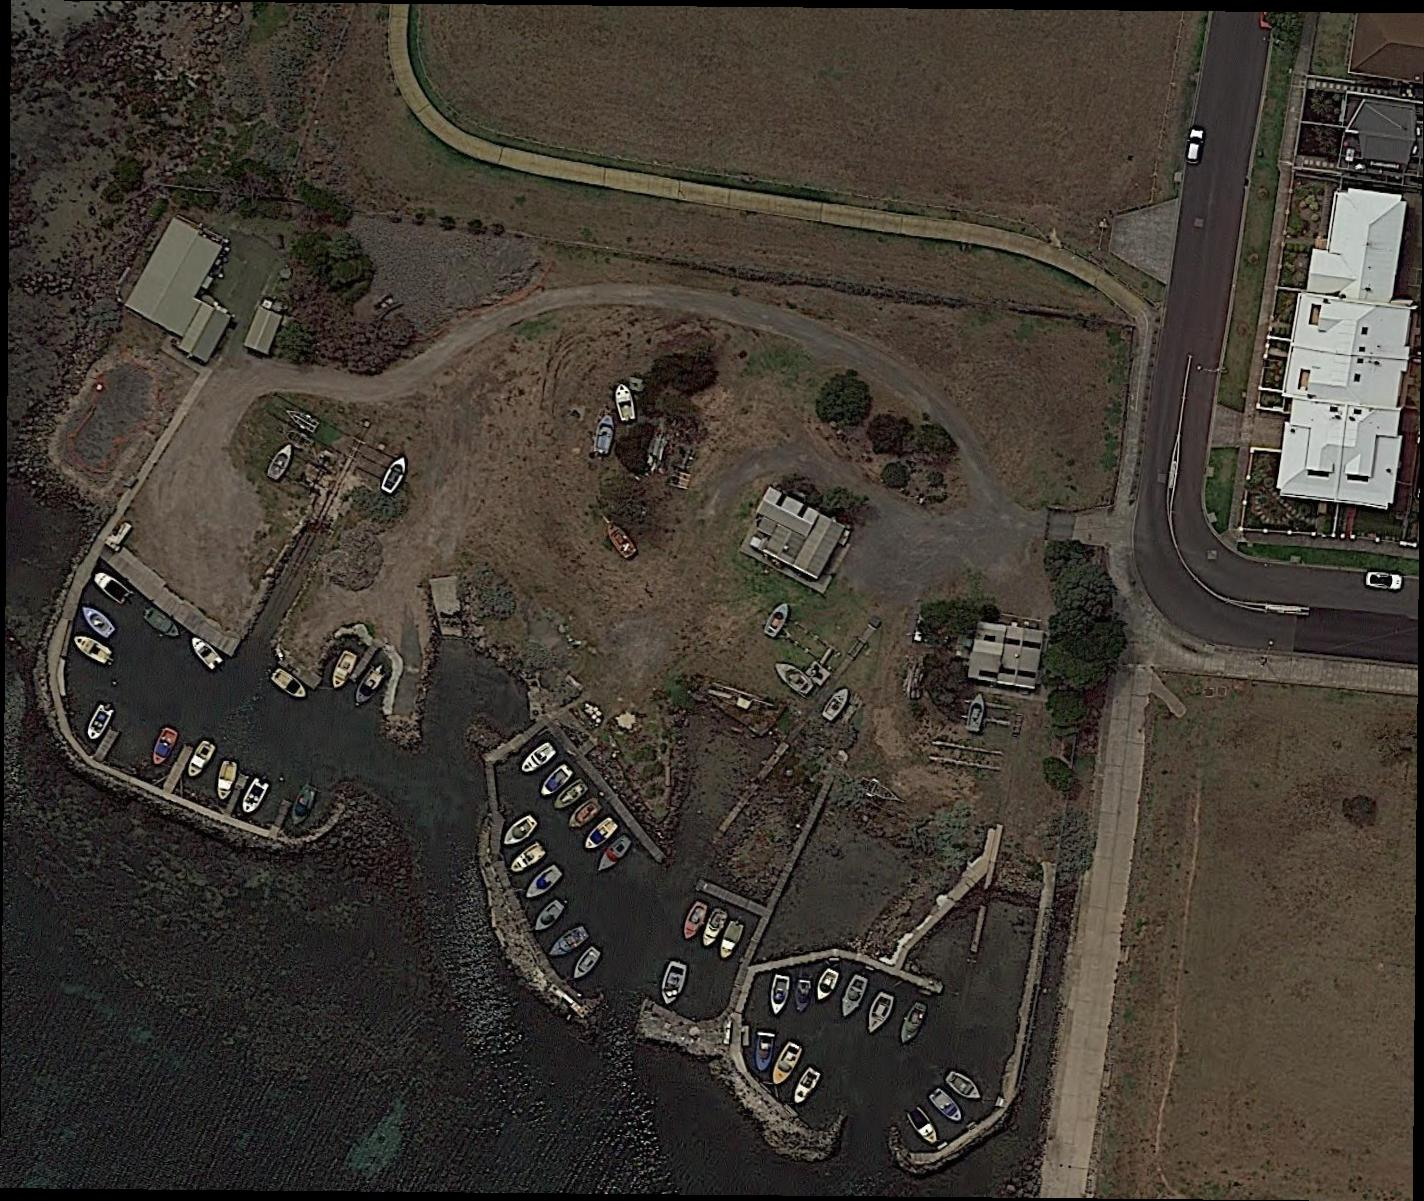harbor: (548, 720, 666, 861), (697, 879, 766, 917), (162, 745, 193, 794), (898, 967, 944, 994), (224, 774, 248, 817), (350, 645, 378, 682), (269, 799, 292, 840), (93, 728, 119, 763)
ship: (770, 655, 817, 699), (766, 1039, 806, 1091), (520, 864, 566, 906), (593, 833, 635, 878), (835, 973, 873, 1022), (543, 925, 590, 963), (896, 998, 932, 1047), (862, 991, 898, 1038), (271, 664, 313, 703), (350, 664, 388, 708), (906, 1103, 943, 1149), (142, 605, 185, 643), (91, 568, 133, 606), (928, 1085, 966, 1128), (602, 518, 639, 562), (186, 633, 225, 673), (564, 795, 604, 834), (499, 814, 541, 852), (657, 959, 689, 1008), (288, 782, 322, 828), (582, 816, 621, 855), (944, 1068, 985, 1104), (378, 453, 413, 496), (149, 724, 182, 770), (79, 602, 117, 641), (535, 763, 576, 799), (82, 702, 116, 746), (327, 648, 360, 692), (71, 631, 116, 665), (506, 841, 547, 877), (184, 739, 218, 780), (789, 1065, 823, 1107), (265, 441, 298, 484), (520, 741, 558, 778), (531, 898, 567, 938), (820, 684, 856, 723), (238, 776, 271, 819), (699, 907, 730, 951), (551, 778, 590, 813), (763, 599, 795, 641), (716, 919, 746, 962), (680, 901, 710, 944), (570, 945, 603, 983), (766, 972, 792, 1018), (812, 966, 842, 1004), (591, 413, 618, 455), (965, 693, 989, 734), (214, 761, 240, 799), (615, 382, 638, 422), (754, 1031, 775, 1074), (792, 978, 815, 1015)
